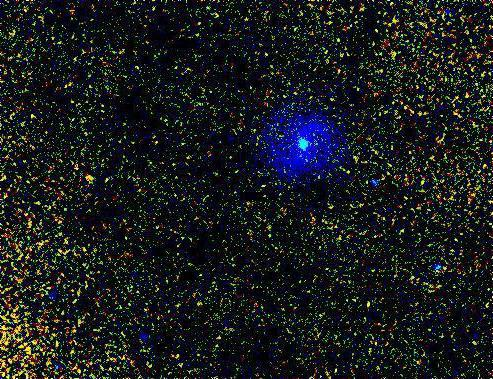star: (75, 162, 105, 192)
